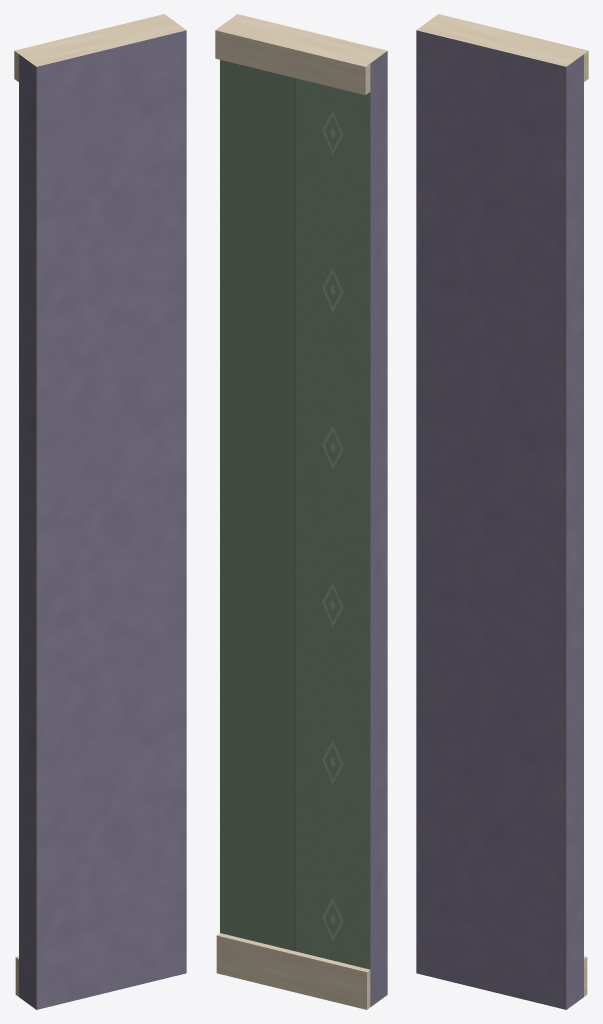
Rendered from SM_Wall_05x3.fbx.
The picture shows the model from 3 angles, left to right: view 1: azimuth 30°, elevation 25°; view 2: azimuth 150°, elevation 25°; view 3: azimuth 330°, elevation 25°; orthographic projection.
Visible parts, largest first — view 1: SM_Wall_05x3; view 2: SM_Wall_05x3; view 3: SM_Wall_05x3.
Part boxes in pixels (<box>): SM_Wall_05x3: <box>14,14,186,1009</box>; SM_Wall_05x3: <box>215,14,387,1009</box>; SM_Wall_05x3: <box>416,14,588,1009</box>.
Size of what is drawn, in the model's own units: 0.5 by 3 by 0.128.
3 materials, 3 textured.
